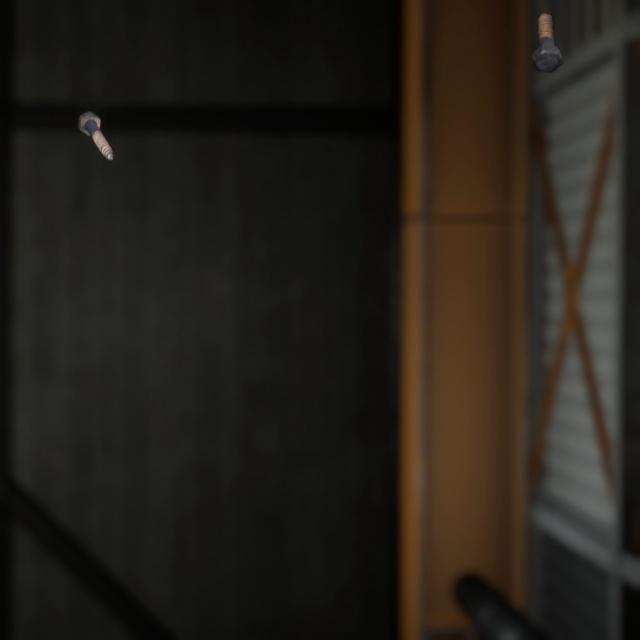bolt: (527, 0, 566, 67), (73, 94, 118, 151)
